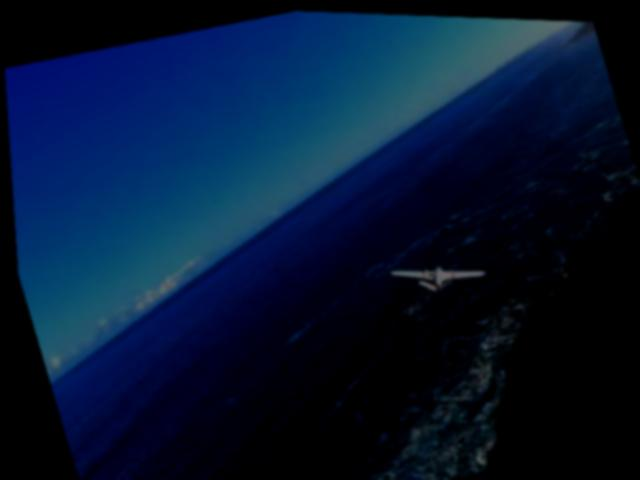uav: (379, 239, 488, 305)
